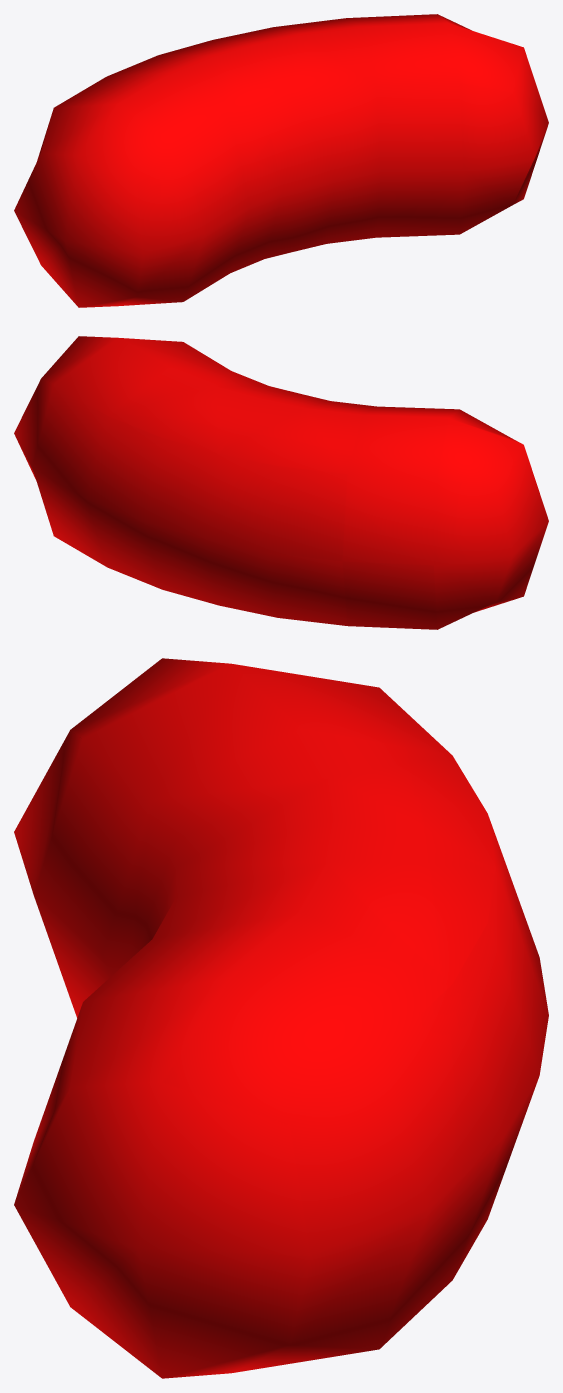
Rendered from candy1.fbx.
3 renders of one model, top to bottom at view 1: azimuth 30°, elevation 25°; view 2: azimuth 150°, elevation 25°; view 3: azimuth 270°, elevation 25°, orthographic. The views are drawn at different scales.
Visible parts, largest first — view 1: Cube; view 2: Cube; view 3: Cube.
Part boxes in pixels (x1,y1,x2,y2): Cube: (14,14,548,307); Cube: (14,336,548,629); Cube: (14,658,548,1378).
Bounding box in the file's own units: 4.13 × 1.6 × 1.96.
